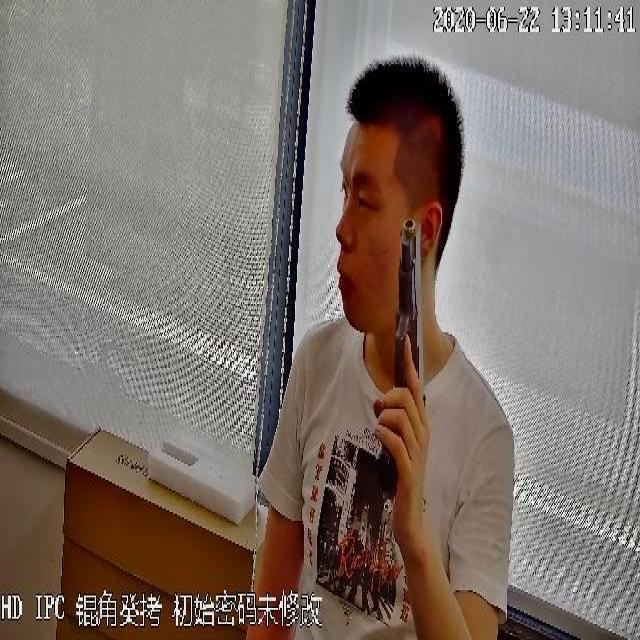pistol: (378, 213, 426, 478)
